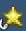star: (1, 1, 26, 31)
